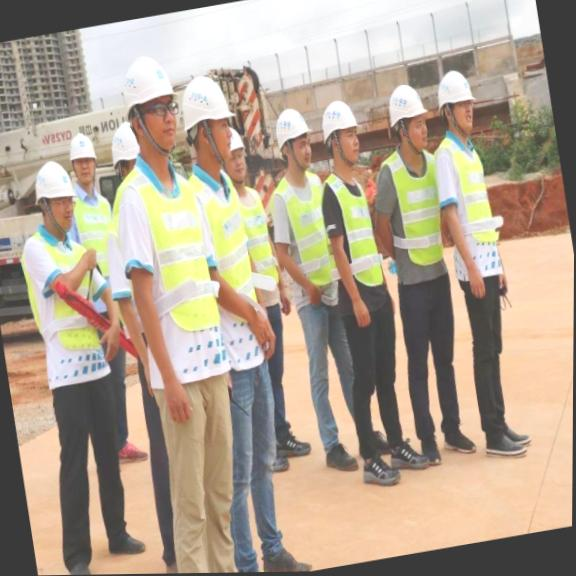safety_vest: (113, 153, 215, 330), (20, 220, 101, 355), (191, 151, 255, 299), (273, 175, 338, 291), (440, 133, 498, 260), (388, 151, 448, 268), (333, 178, 384, 295)
